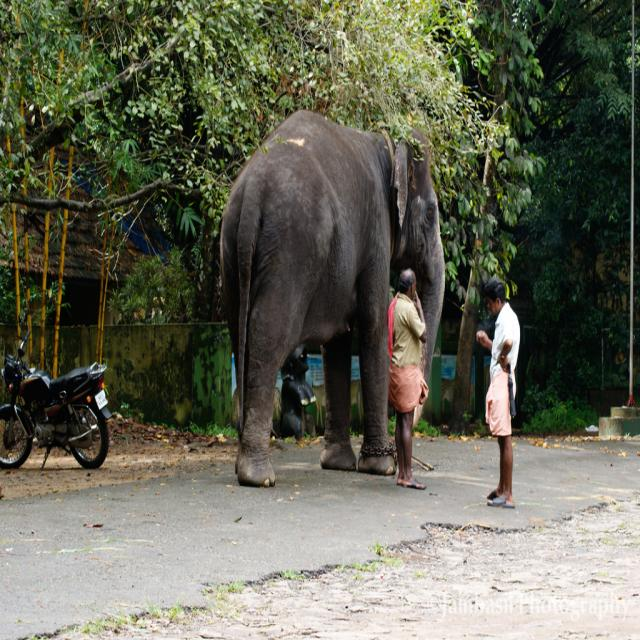Elephant: (218, 108, 446, 487)
person: (476, 276, 520, 508), (387, 268, 429, 489)
